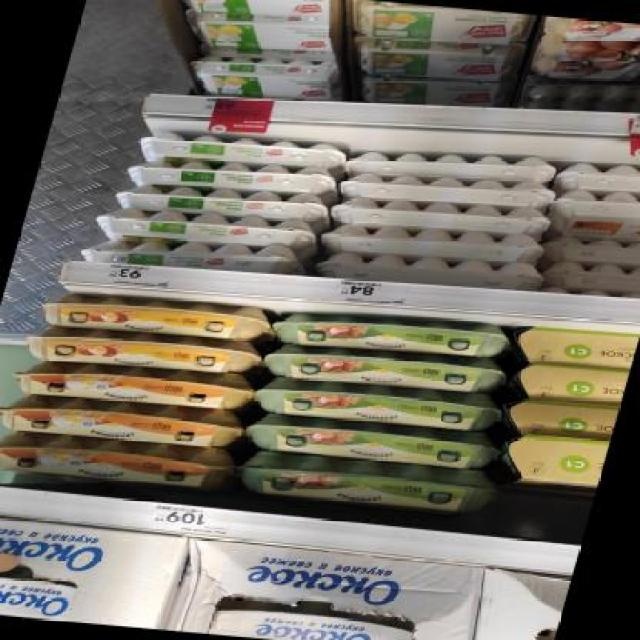Egg: (229, 450, 508, 520), (240, 411, 508, 472), (0, 428, 242, 495), (0, 390, 252, 452), (250, 373, 508, 433), (3, 354, 260, 414), (17, 322, 269, 378), (261, 340, 514, 395), (34, 289, 278, 345), (268, 308, 515, 363), (92, 202, 320, 253), (76, 231, 310, 280), (123, 151, 339, 201), (112, 177, 334, 225), (345, 0, 540, 51), (134, 126, 346, 172), (182, 50, 352, 105), (349, 36, 523, 86), (206, 601, 421, 640), (180, 9, 338, 57), (357, 72, 515, 116), (531, 29, 640, 92), (163, 0, 334, 23), (0, 573, 80, 621)
